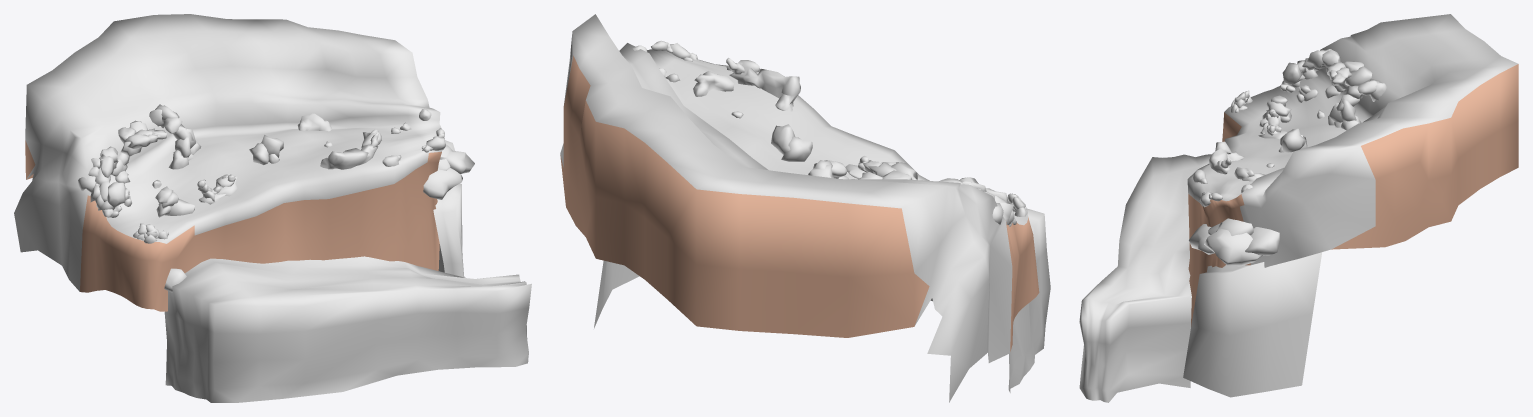
Rendered from blocking test 1.fbx.
The picture shows the model from 3 angles, left to right: view 1: azimuth 30°, elevation 25°; view 2: azimuth 150°, elevation 25°; view 3: azimuth 270°, elevation 25°; orthographic projection. The views are drawn at different scales.
Parts seen in each view (by area): view 1: level1 terrain.002, level2 terrain.002, level 3 terrain.002, Icosphere.227, Icosphere.320, Icosphere.317, Rock 1; view 2: level1 terrain.002, level2 terrain.002, Icosphere.227, level 3 terrain.002, rock 2, Icosphere.141, Icosphere.322; view 3: level1 terrain.002, level2 terrain.002, level 3 terrain.002, Icosphere.317, Icosphere.319, Icosphere.227, Icosphere.318, Icosphere.320, Icosphere.322.
Part boxes in pixels (left/top/right/bottom): level1 terrain.002: left=14, top=14, right=441, bottom=311; level2 terrain.002: left=164, top=256, right=531, bottom=402; level 3 terrain.002: left=433, top=183, right=464, bottom=277; Icosphere.227: left=320, top=144, right=377, bottom=169; Icosphere.320: left=423, top=168, right=462, bottom=199; Icosphere.317: left=440, top=151, right=474, bottom=173; Rock 1: left=297, top=113, right=331, bottom=131; level1 terrain.002: left=560, top=14, right=1039, bottom=402; level2 terrain.002: left=930, top=208, right=1050, bottom=392; Icosphere.227: left=729, top=68, right=800, bottom=111; level 3 terrain.002: left=594, top=260, right=639, bottom=328; rock 2: left=693, top=71, right=733, bottom=96; Icosphere.141: left=781, top=136, right=812, bottom=161; Icosphere.322: left=771, top=124, right=795, bottom=154; level1 terrain.002: left=1187, top=14, right=1518, bottom=326; level2 terrain.002: left=1079, top=154, right=1211, bottom=402; level 3 terrain.002: left=1183, top=252, right=1322, bottom=397; Icosphere.317: left=1204, top=222, right=1262, bottom=266; Icosphere.319: left=1245, top=227, right=1279, bottom=255; Icosphere.227: left=1209, top=141, right=1243, bottom=174; Icosphere.318: left=1208, top=218, right=1253, bottom=235; Icosphere.320: left=1189, top=224, right=1214, bottom=254; Icosphere.322: left=1282, top=128, right=1305, bottom=152.
Bounding box in the file's own units: 12089 × 8285 × 12543.
